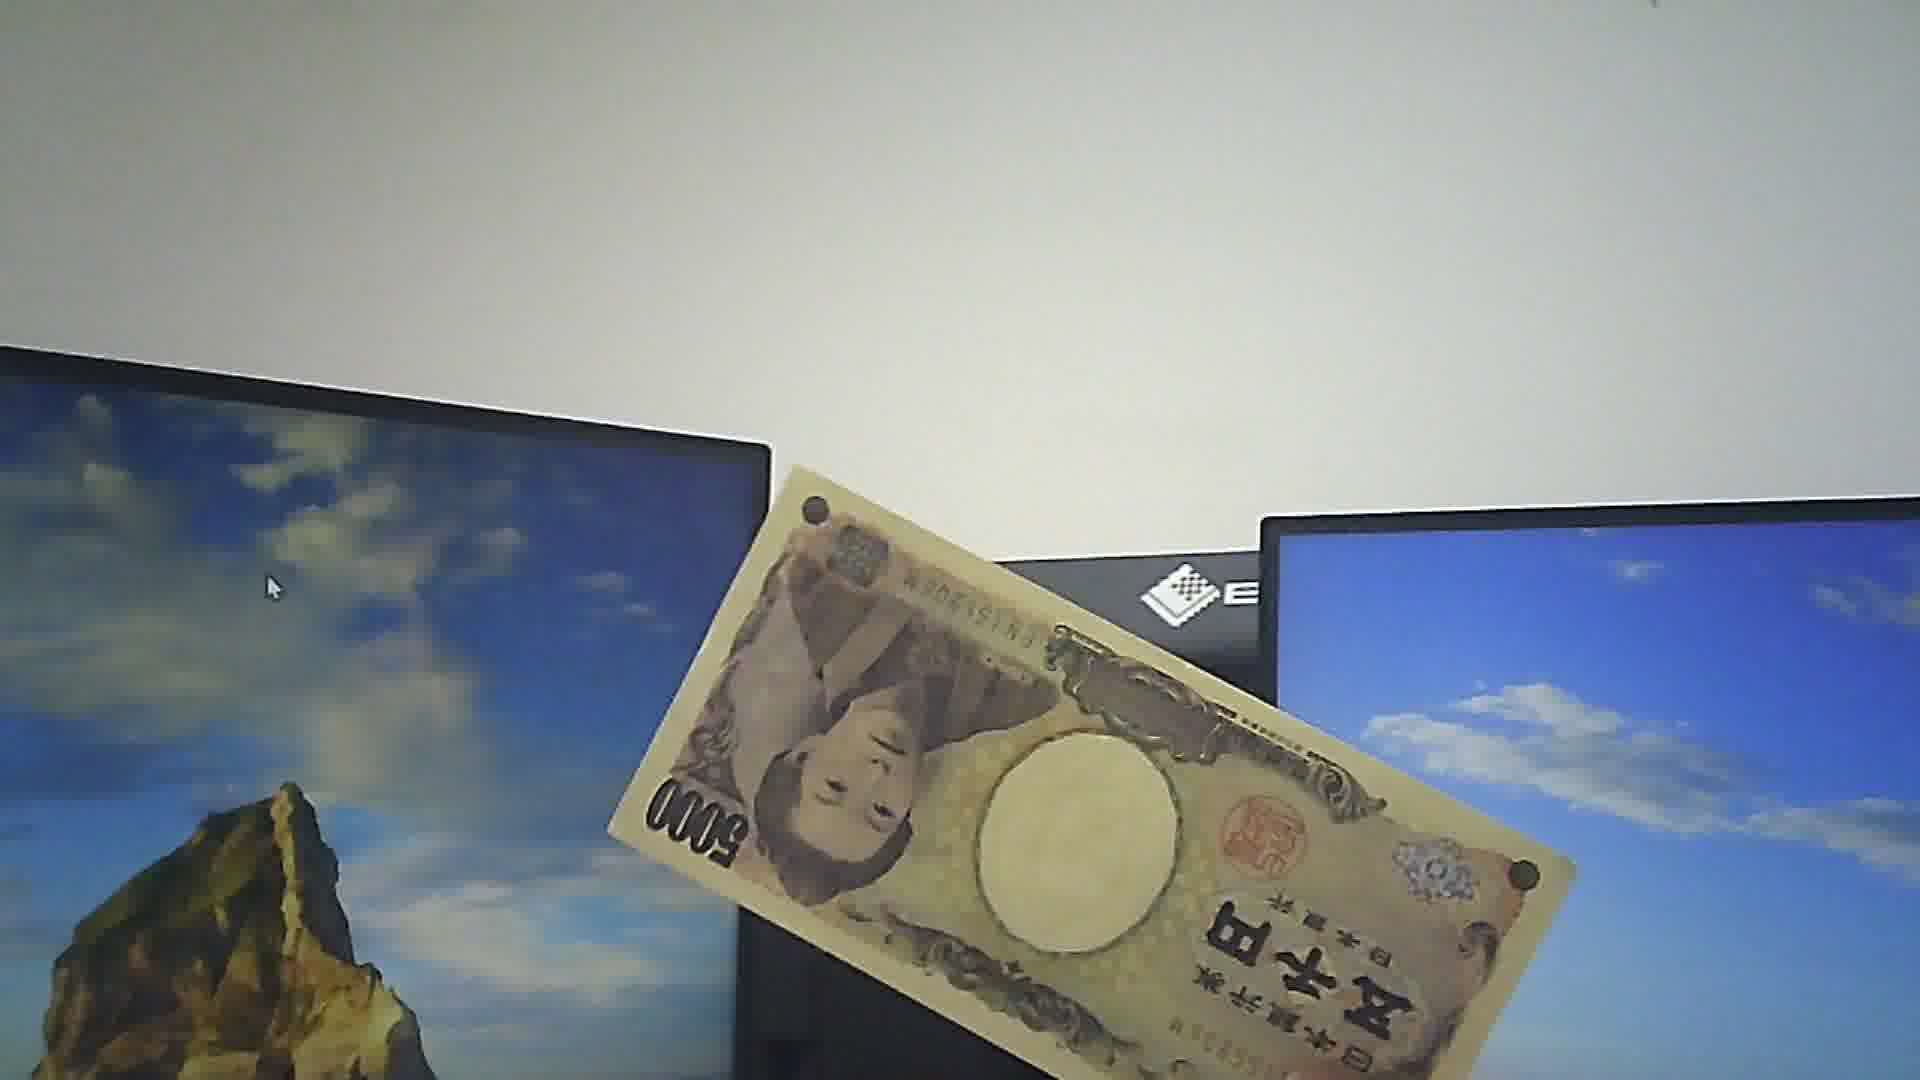5,000 Yen: (613, 468, 1596, 1079)
